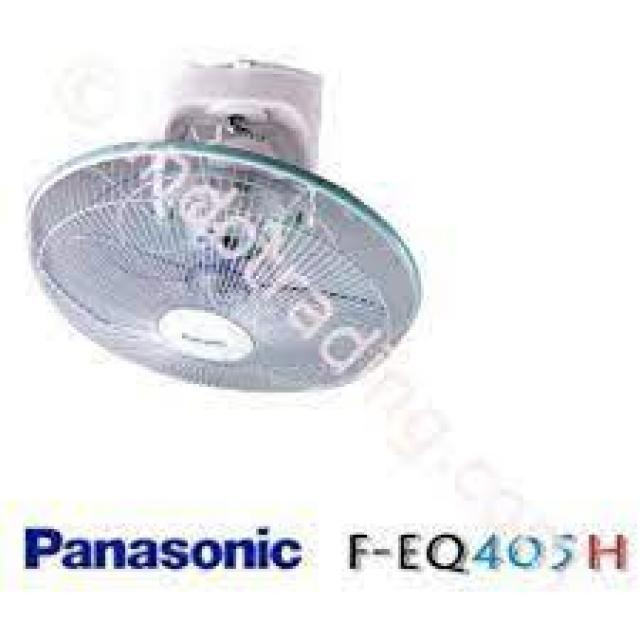fan: (11, 36, 438, 411)
